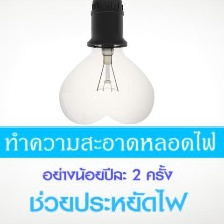light_bulb: (56, 7, 158, 127)
